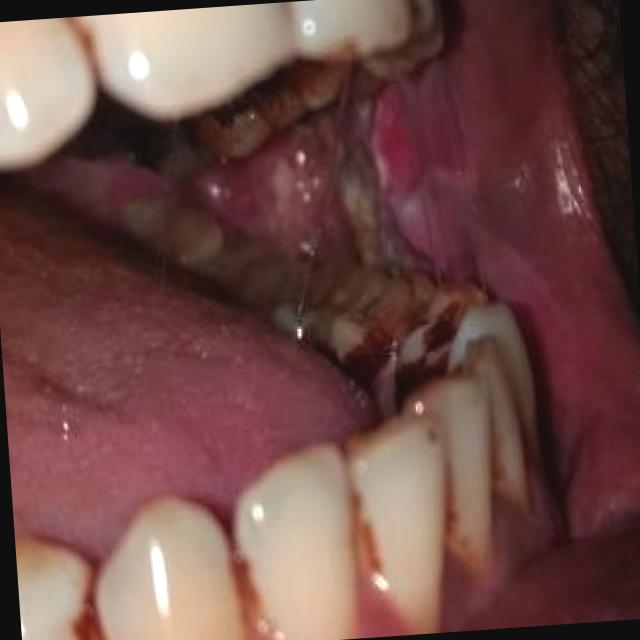Cancer: (174, 77, 459, 257)
